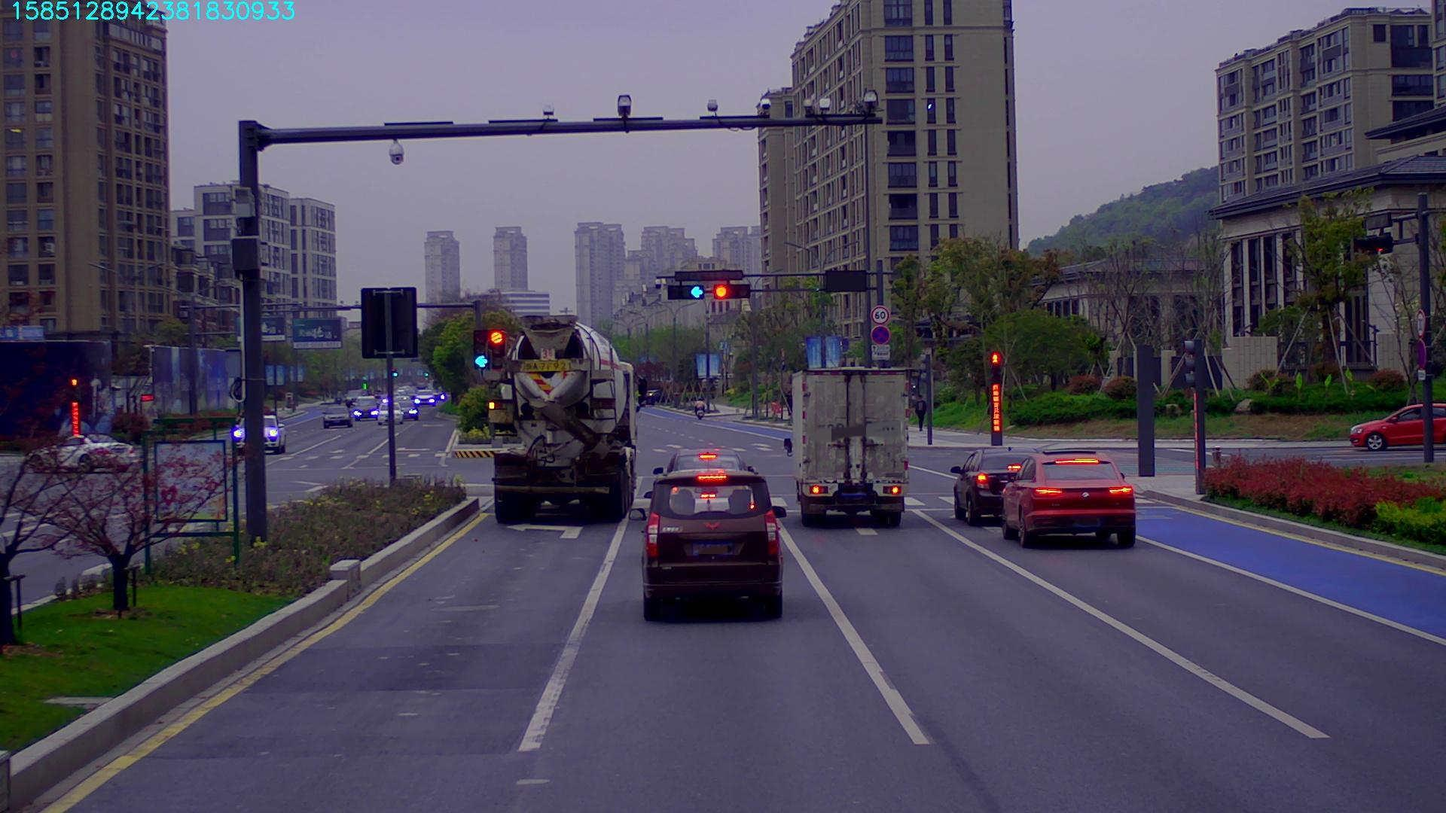green: (667, 284, 709, 300)
red: (713, 285, 744, 299)
